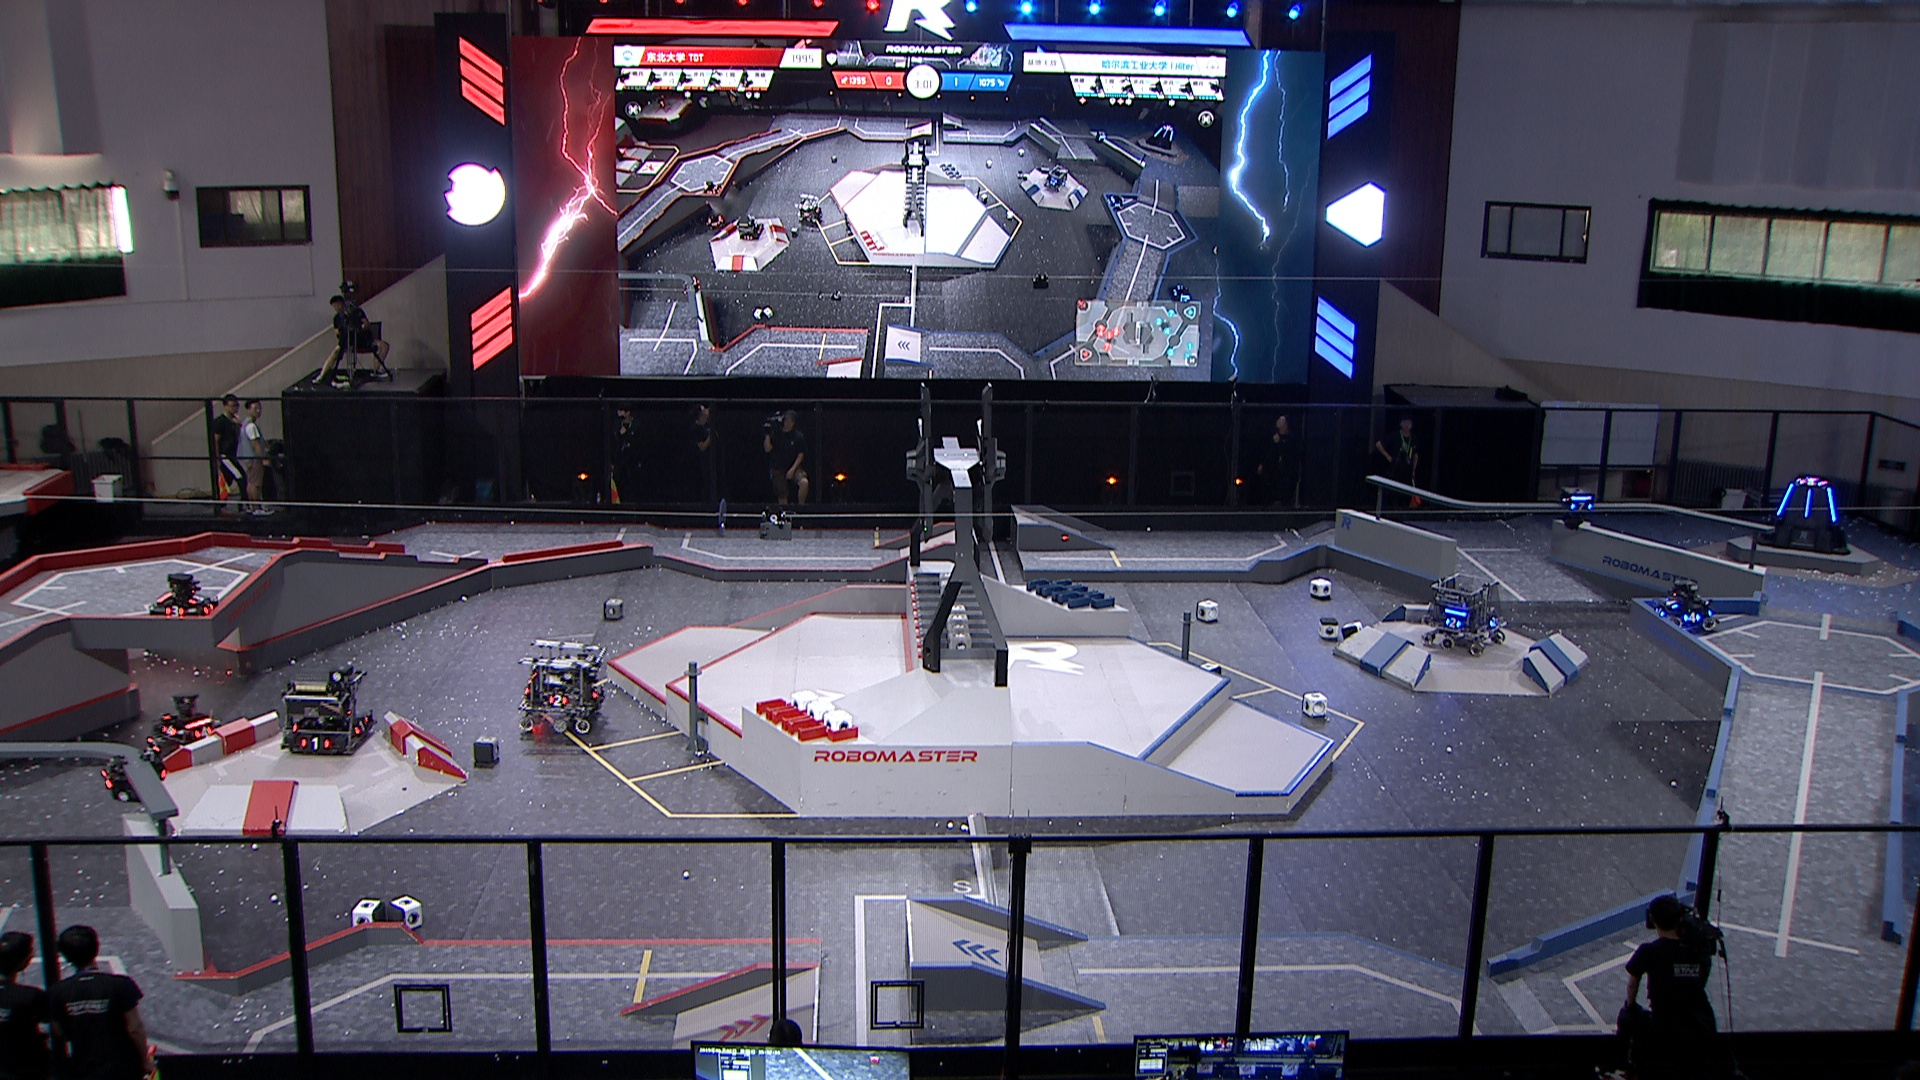armor: (1776, 481, 1797, 514), (1822, 488, 1841, 524), (297, 733, 330, 752), (351, 713, 373, 736), (98, 765, 115, 793), (1441, 616, 1466, 632), (1660, 595, 1681, 613), (1681, 609, 1702, 628), (588, 680, 605, 703), (1567, 500, 1596, 513), (545, 694, 570, 708), (191, 725, 215, 740), (162, 605, 187, 618), (189, 589, 206, 607), (202, 599, 218, 617), (162, 723, 181, 738), (1803, 488, 1813, 516), (1487, 611, 1501, 629)
base: (1755, 472, 1854, 556)
car: (514, 636, 612, 736), (277, 673, 377, 760), (1423, 567, 1509, 659), (142, 690, 229, 756), (1642, 576, 1718, 632), (148, 568, 220, 622)
ignore: (795, 193, 827, 225), (1145, 124, 1182, 149), (733, 214, 764, 243), (1040, 164, 1069, 194), (703, 210, 727, 233), (1799, 475, 1826, 488)
watcher: (98, 733, 171, 808), (1561, 483, 1600, 531)
